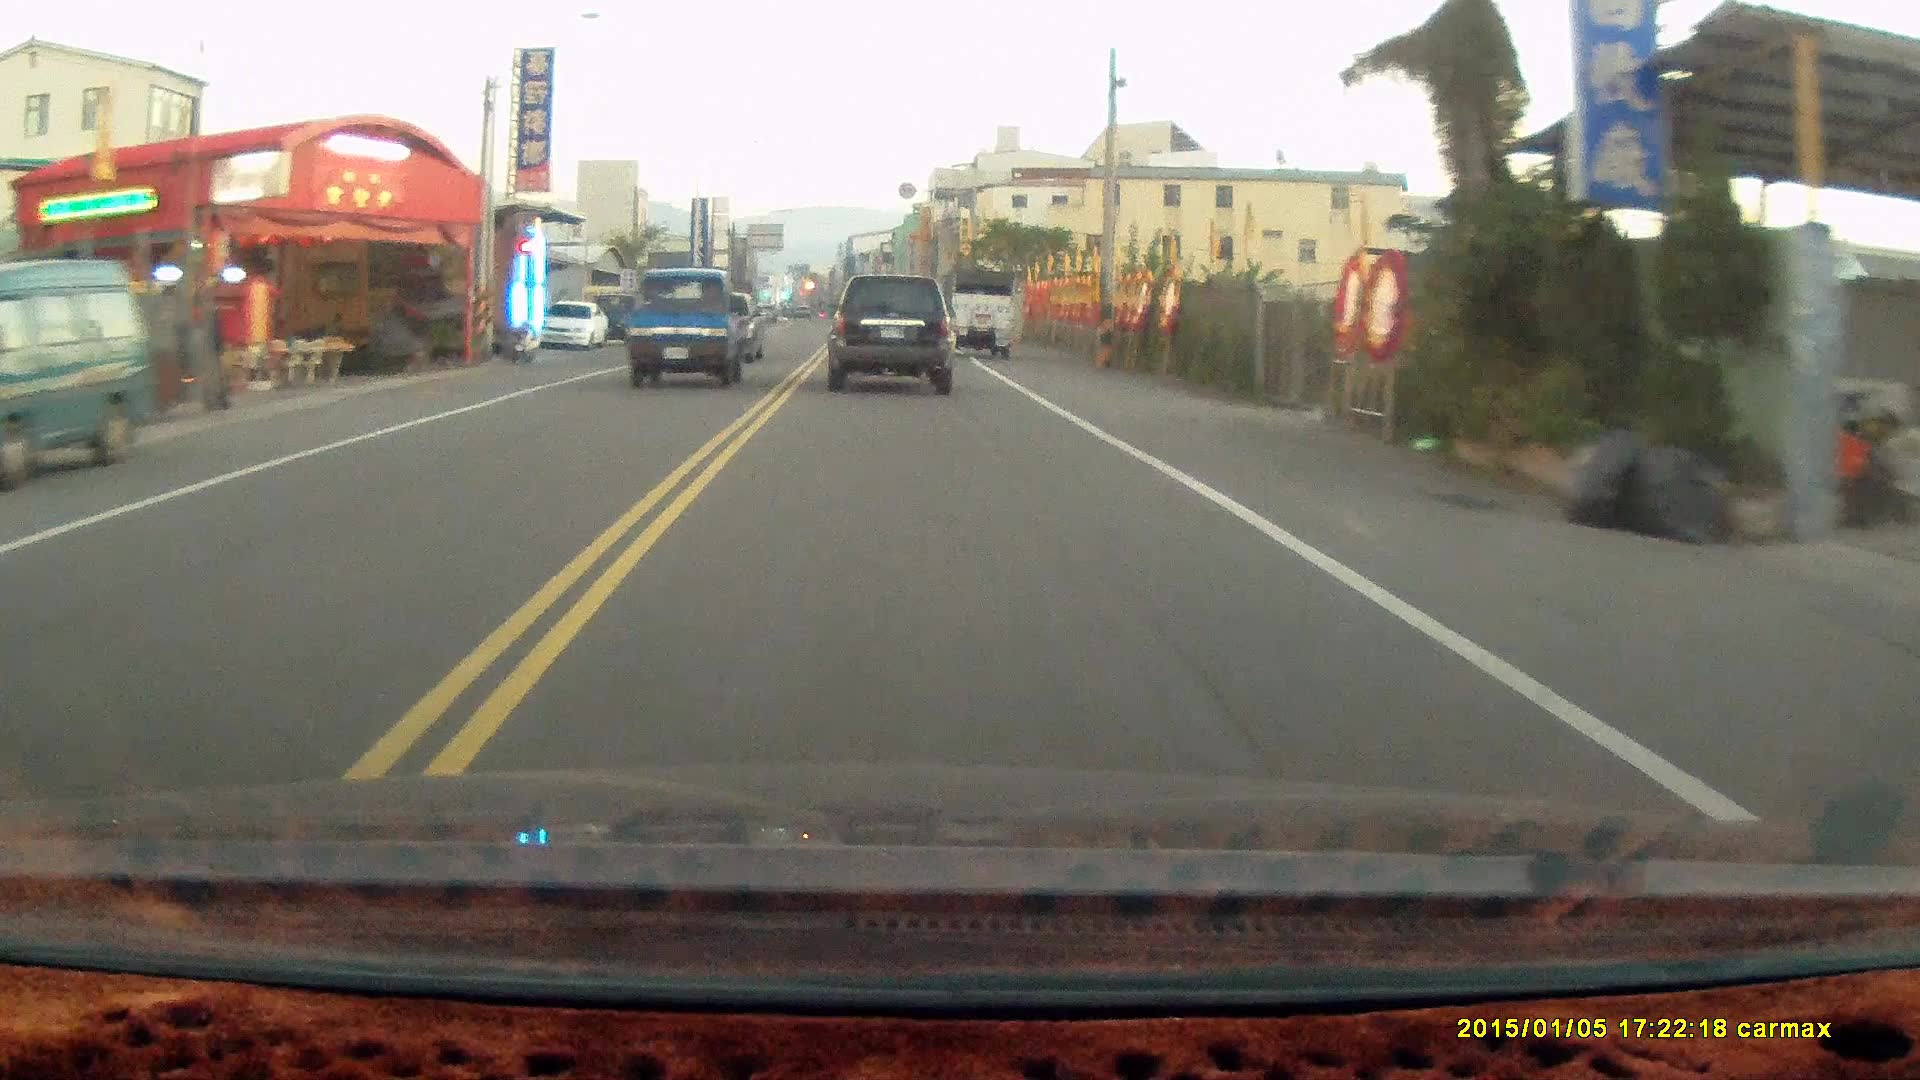vehicle: (1, 256, 158, 485), (622, 264, 767, 386), (831, 265, 967, 392), (938, 264, 1021, 359), (541, 299, 608, 349)
